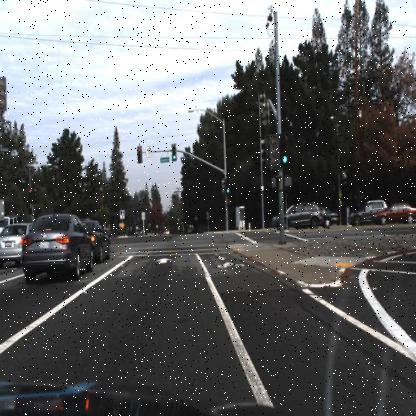car: (16, 200, 94, 284), (18, 209, 94, 284), (80, 214, 112, 265), (272, 201, 322, 232), (274, 203, 324, 232), (91, 214, 115, 270), (344, 200, 391, 222), (344, 200, 374, 228), (322, 199, 341, 228), (318, 202, 336, 229), (132, 221, 144, 242), (270, 207, 278, 231)
trafficLight-Green: (278, 135, 290, 172), (223, 177, 233, 198), (278, 154, 290, 170), (170, 142, 179, 163), (170, 148, 178, 162), (225, 182, 232, 196)
trafficLight-Red: (134, 142, 144, 162), (25, 184, 33, 202)
trafficLight-RedLeft: (26, 186, 34, 209), (137, 143, 143, 163)
